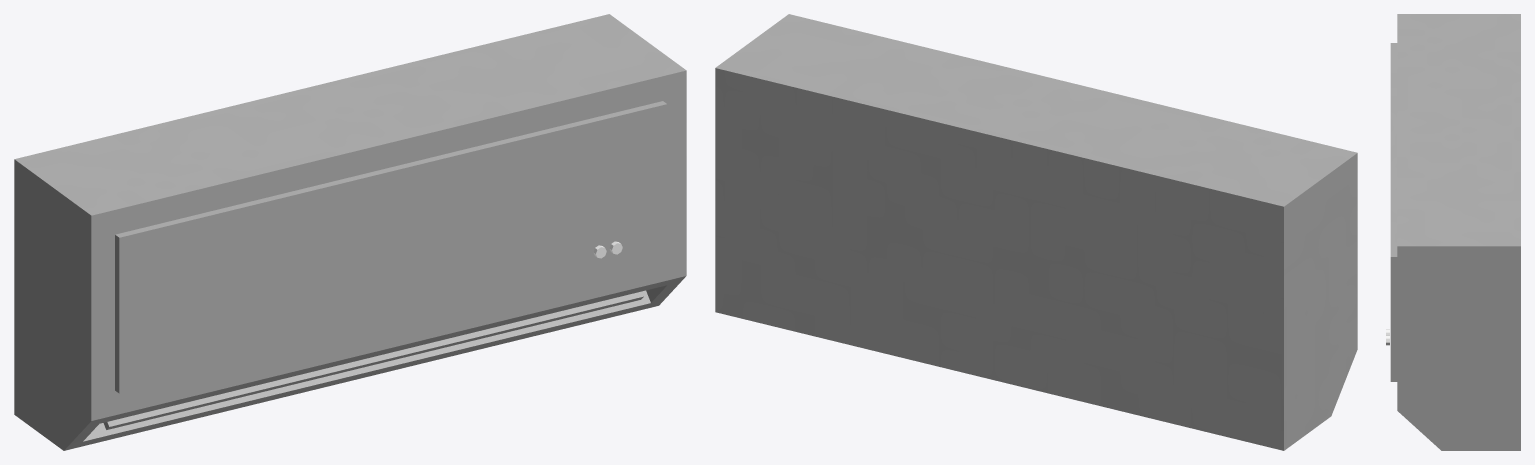
Rendered from Air_Conditioner.fbx.
The picture shows the model from 3 angles, left to right: view 1: azimuth 30°, elevation 25°; view 2: azimuth 150°, elevation 25°; view 3: azimuth 270°, elevation 25°; orthographic projection. The views are drawn at different scales.
Parts seen in each view (by area): view 1: Air_Conditioner; view 2: Air_Conditioner; view 3: Air_Conditioner.
Boxes of the visible parts, left/top/right/bottom form: Air_Conditioner: left=14, top=14, right=686, bottom=450; Air_Conditioner: left=715, top=14, right=1357, bottom=450; Air_Conditioner: left=1386, top=14, right=1520, bottom=450.
Bounding box in the file's own units: 1.64 × 0.6749 × 0.4029.
